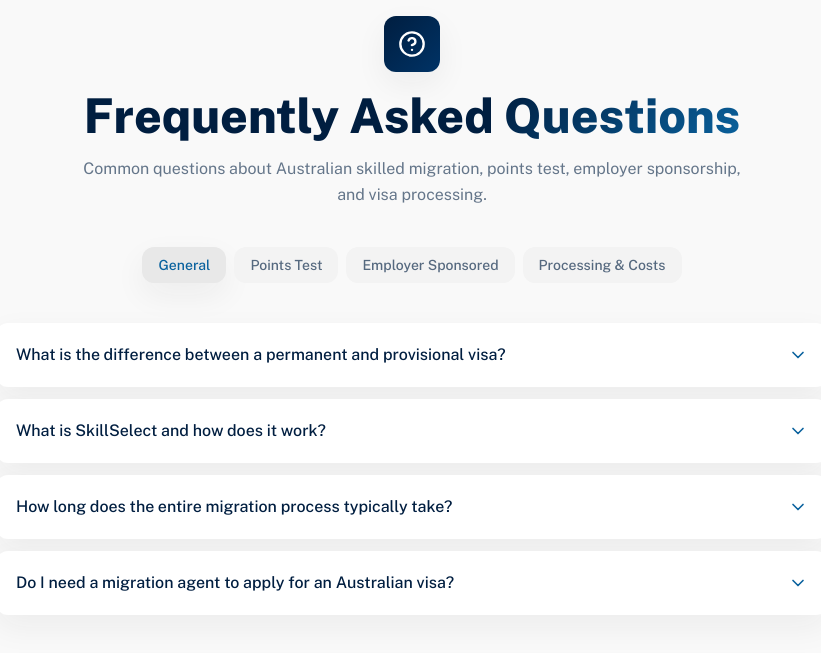
FAQPage › switches to Employer Sponsored category
The image size is (821, 653).
Click the button "Employer Sponsored" at {"x": 431, "y": 265}, box x1=346 y1=247 x2=515 y2=283
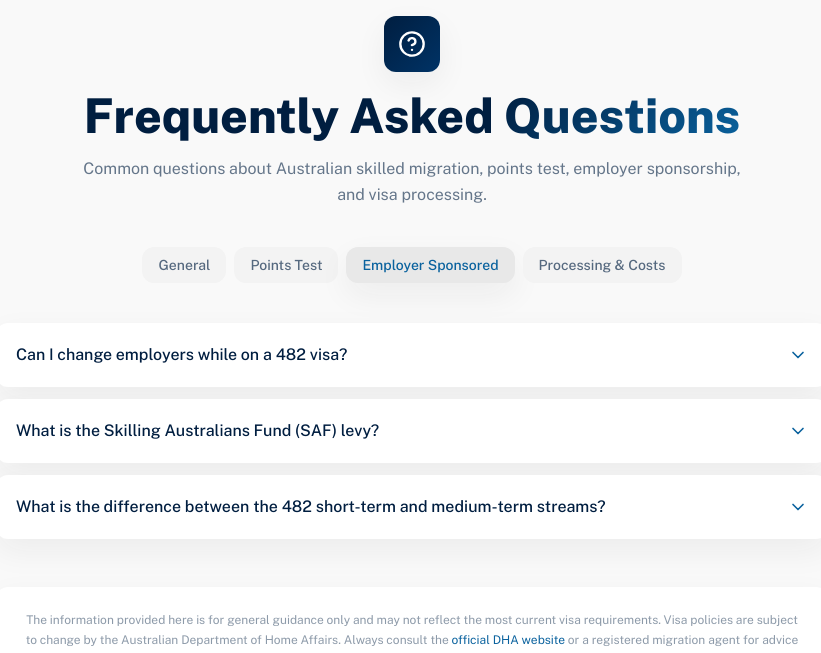
Result: the text "Can I change employers while on a 482 visa?" is shown at x1=16 y1=343 x2=363 y2=367
